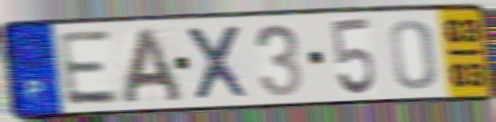0: (387, 17, 439, 91)
3: (253, 22, 303, 98)
5: (329, 16, 378, 97)
A: (118, 25, 187, 106)
E: (54, 28, 124, 109)
X: (182, 22, 253, 103)
